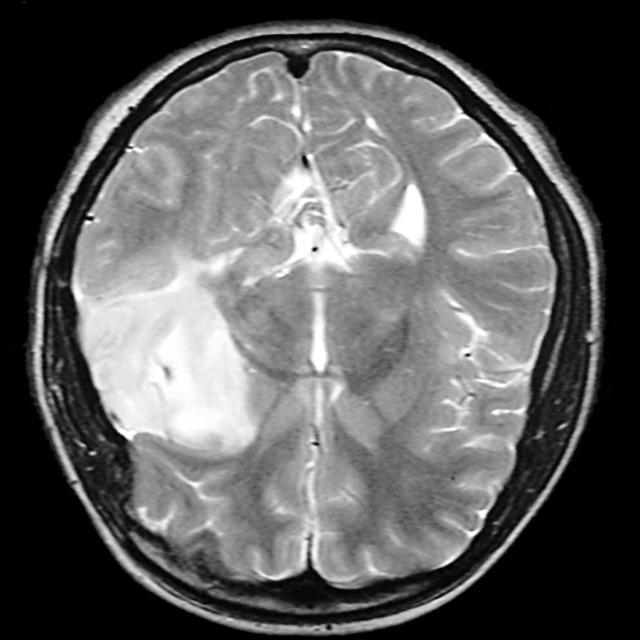brain tumor: (71, 252, 256, 458)
